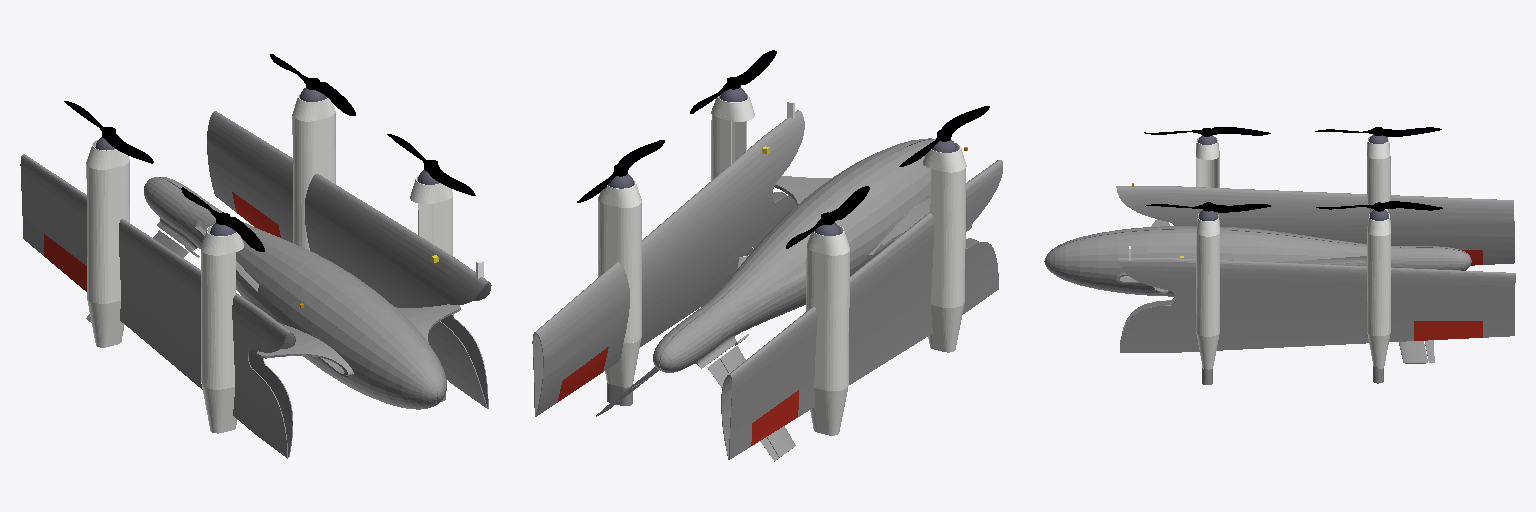
--- What the picture shows (computed from the rendered views, not written in the file) ---
The picture shows the robot from 3 angles, left to right: view 1: azimuth 30°, elevation 25°; view 2: azimuth 150°, elevation 25°; view 3: azimuth 270°, elevation 25°; orthographic projection.
Robot: uav — 13 links, 12 joints (8 revolute, 4 continuous); root link base_link; default pose: every joint at zero.
Links seen in each view (by area): view 1: new_link.000, new_link.000.001, base_link, right_wing_flap, left_wing_flap, Body1.051_link, Body1.051_link.002, Body1.051_link.003, Body1.051_link.001; view 2: new_link.000, new_link.000.001, base_link, right_wing_flap, left_wing_flap, Body1.051_link.001, Body1.051_link.003, Body1.051_link, Body1.051_link.002; view 3: new_link.000.001, new_link.000, base_link, left_wing_flap, Body1.051_link.003, Body1.051_link.002, Body1.051_link.001, Body1.051_link.
Link boxes in pixels (x1,y1,x2,y2): new_link.000: (20,137,295,458); new_link.000.001: (207,88,491,408); base_link: (90,177,460,409); right_wing_flap: (44,234,86,291); left_wing_flap: (232,192,483,278); Body1.051_link: (181,187,264,251); Body1.051_link.002: (270,54,355,115); Body1.051_link.003: (64,101,153,163); Body1.051_link.001: (387,134,475,195); new_link.000: (721,140,1002,459); new_link.000.001: (532,87,804,416); base_link: (598,138,971,457); right_wing_flap: (751,390,798,445); left_wing_flap: (557,101,794,402); Body1.051_link.001: (690,50,776,113); Body1.051_link.003: (786,186,869,248); Body1.051_link: (899,106,989,166); Body1.051_link.002: (577,140,664,202); new_link.000.001: (1118,210,1515,384); new_link.000: (1116,134,1514,264); base_link: (1044,219,1471,363); left_wing_flap: (1129,246,1482,340); Body1.051_link.003: (1315,127,1441,136); Body1.051_link.002: (1316,201,1442,211); Body1.051_link.001: (1145,202,1270,212); Body1.051_link: (1144,127,1270,136).
Size in the robot's own frame: 0.6 by 1.32 by 0.5472 metres.
Meshes: 30 distinct files referenced, 41 mesh visuals loaded (26 binary STL); not drawn: 4 (reference not matched to a file when rendering).

robot.urdf — uav:
<robot name="uav" version="1.0">
  <joint name="left_elavator" type="revolute">
    <limit lower="-0.26180" upper="0.26180" effort="0.18000" velocity="10.50000"/>
    <origin rpy="2.37638 -0.00000 1.57080" xyz="0.08435 0.68209 -0.08224"/>
    <parent link="base_link"/>
    <child link="Body5_link"/>
    <axis xyz="0.00000 0.00000 1.00000"/>
  </joint>
  <joint name="left_flap" type="revolute">
    <limit lower="-0.26180" upper="0.26180" effort="0.18000" velocity="10.50000"/>
    <origin rpy="0.00000 0.00000 -3.14159" xyz="-0.01213 -0.08407 -0.81608"/>
    <parent link="new_link.000.001"/>
    <child link="left_wing_flap"/>
    <axis xyz="0.00000 0.00000 1.00000"/>
  </joint>
  <joint name="left_wing_first_motor" type="continuous">
    <limit lower="0" upper="0" effort="0.87000" velocity="0.00000"/>
    <origin rpy="2.35619 -1.57080 2.35619" xyz="0.01156 0.27348 -0.12973"/>
    <parent link="new_link.000.001"/>
    <child link="Body1.051_link.001"/>
    <axis xyz="0.00000 0.00000 1.00000"/>
  </joint>
  <joint name="left_wing_first_transwing" type="revolute">
    <limit lower="-1.57080" upper="0.00000" effort="0.75000" velocity="314.00000"/>
    <origin rpy="0.00000 0.00000 0.00000" xyz="0.22885 -0.00979 0.00083"/>
    <parent link="base_link"/>
    <child link="new_link.000.001.002"/>
    <axis xyz="0.00000 0.00000 1.00000"/>
  </joint>
  <joint name="left_wing_second_motor" type="continuous">
    <limit lower="0" upper="0" effort="0.87000" velocity="576.00000"/>
    <origin rpy="2.35619 -1.57080 2.35619" xyz="0.00373 0.27348 -0.60796"/>
    <parent link="new_link.000.001"/>
    <child link="Body1.051_link.002"/>
    <axis xyz="0.00000 0.00000 1.00000"/>
  </joint>
  <joint name="left_wing_second_transwing" type="revolute">
    <limit lower="-1.57080" upper="0.00000" effort="0.75000" velocity="314.00000"/>
    <origin rpy="1.57080 0.00000 0.00000" xyz="0.01000 0.00000 0.00000"/>
    <parent link="new_link.000.001.002"/>
    <child link="new_link.000.001"/>
    <axis xyz="0.00000 0.00000 1.00000"/>
  </joint>
  <joint name="right_elavator" type="revolute">
    <limit lower="-0.26180" upper="0.26180" effort="0.18000" velocity="10.50000"/>
    <origin rpy="-2.35619 -0.00000 1.57080" xyz="-0.09293 0.69201 -0.08899"/>
    <parent link="base_link"/>
    <child link="Body3.003_link"/>
    <axis xyz="0.00000 0.00000 1.00000"/>
  </joint>
  <joint name="right_flap" type="revolute">
    <limit lower="-0.26180" upper="0.26180" effort="0.18000" velocity="10.50000"/>
    <origin rpy="0.00000 0.00000 -3.14159" xyz="-0.00099 -0.08750 -0.82097"/>
    <parent link="new_link.000"/>
    <child link="right_wing_flap"/>
    <axis xyz="0.00000 0.00000 1.00000"/>
  </joint>
  <joint name="right_wing_first_motor" type="continuous">
    <limit lower="0" upper="0" effort="0.87000" velocity="576.00000"/>
    <origin rpy="2.35619 -1.57080 2.35619" xyz="-0.01773 0.27006 -0.12950"/>
    <parent link="new_link.000"/>
    <child link="Body1.051_link"/>
    <axis xyz="0.00000 0.00000 1.00000"/>
  </joint>
  <joint name="right_wing_first_transwing" type="revolute">
    <limit lower="0.00000" upper="1.57080" effort="0.75000" velocity="314.00000"/>
    <origin rpy="0.00000 0.00000 0.00000" xyz="-0.22514 -0.01467 0.00426"/>
    <parent link="base_link"/>
    <child link="new_link"/>
    <axis xyz="0.00000 0.00000 1.00000"/>
  </joint>
  <joint name="right_wing_second_motor" type="continuous">
    <limit lower="0" upper="0" effort="0.87000" velocity="576.00000"/>
    <origin rpy="2.35619 -1.57080 2.35619" xyz="-0.01773 0.27006 -0.61284"/>
    <parent link="new_link.000"/>
    <child link="Body1.051_link.003"/>
    <axis xyz="0.00000 0.00000 1.00000"/>
  </joint>
  <joint name="right_wing_second_transwing" type="revolute">
    <limit lower="0.00000" upper="1.57080" effort="0.75000" velocity="314.00000"/>
    <origin rpy="1.57080 0.00000 0.00000" xyz="-0.01000 0.00000 0.00000"/>
    <parent link="new_link"/>
    <child link="new_link.000"/>
    <axis xyz="0.00000 0.00000 1.00000"/>
  </joint>
  <link name="Body1.051_link">
    <collision name="Body1.051_collision">
      <origin rpy="1.57750 0.00672 -0.00304" xyz="0.00001 -0.00001 0.00130"/>
      <geometry>
        <box size="0.34166 0.02595 0.03361"/>
      </geometry>
    </collision>
    <inertial>
      <inertia ixx="0.00009" ixy="0.00000" ixz="0.00000" iyy="0.00000" iyz="-0.00000" izz="0.00009"/>
      <origin rpy="0.00000 0.00000 0.00000" xyz="0.00006 -0.00006 0.00942"/>
      <mass value="0.01400"/>
    </inertial>
    <visual name="Body1.051">
      <origin rpy="1.57750 0.00672 -0.00304" xyz="-0.00000 -0.00000 0.00000"/>
      <material name="Oak"/>
      <geometry>
        <mesh filename="../meshes/stl/Body1.030.stl" scale="0.01000 0.01000 0.01000"/>
      </geometry>
    </visual>
  </link>
  <link name="Body1.051_link.001">
    <collision name="Body1.050_collision">
      <origin rpy="-1.57424 -0.00349 -0.01328" xyz="0.00029 -0.00010 0.00128"/>
      <geometry>
        <box size="0.35928 0.02442 0.03534"/>
      </geometry>
    </collision>
    <inertial>
      <inertia ixx="0.00009" ixy="0.00000" ixz="-0.00000" iyy="0.00000" iyz="0.00000" izz="0.00009"/>
      <origin rpy="0.00000 0.00000 0.00000" xyz="0.00206 -0.00072 0.01333"/>
      <mass value="0.01400"/>
    </inertial>
    <visual name="Body1.050">
      <origin rpy="-1.57424 -0.00349 -0.01328" xyz="0.00209 -0.00069 0.01859"/>
      <material name="Oak"/>
      <geometry>
        <mesh filename="../meshes/stl/Body1.030.stl" scale="0.01000 0.01000 0.01000"/>
      </geometry>
    </visual>
  </link>
  <link name="Body1.051_link.002">
    <collision name="Body1.047_collision">
      <origin rpy="1.56735 0.00349 -3.12831" xyz="0.00005 0.00001 0.00125"/>
      <geometry>
        <box size="0.31820 0.01863 0.03130"/>
      </geometry>
    </collision>
    <inertial>
      <inertia ixx="0.00009" ixy="0.00000" ixz="-0.00000" iyy="0.00000" iyz="0.00000" izz="0.00009"/>
      <origin rpy="0.00000 0.00000 0.00000" xyz="0.00035 0.00004 0.00905"/>
      <mass value="0.01400"/>
    </inertial>
    <visual name="Body1.047">
      <origin rpy="1.56735 0.00349 -3.12831" xyz="0.00038 0.00007 -0.00036"/>
      <material name="Oak"/>
      <geometry>
        <mesh filename="../meshes/stl/Body1.030.stl" scale="0.01000 0.01000 0.01000"/>
      </geometry>
    </visual>
  </link>
  <link name="Body1.051_link.003">
    <collision name="Body1.052_collision">
      <origin rpy="-1.56410 -0.00672 -3.13855" xyz="0.00046 0.00015 0.00124"/>
      <geometry>
        <box size="0.31228 0.02690 0.03072"/>
      </geometry>
    </collision>
    <inertial>
      <inertia ixx="0.00009" ixy="0.00000" ixz="0.00000" iyy="0.00000" iyz="-0.00000" izz="0.00009"/>
      <origin rpy="0.00000 0.00000 0.00000" xyz="0.00341 0.00109 0.01254"/>
      <mass value="0.01400"/>
    </inertial>
    <visual name="Body1.052">
      <origin rpy="-1.56410 -0.00672 -3.13855" xyz="0.00335 0.00116 0.01833"/>
      <material name="Oak"/>
      <geometry>
        <mesh filename="../meshes/stl/Body1.030.stl" scale="0.01000 0.01000 0.01000"/>
      </geometry>
    </visual>
  </link>
  <link name="Body3.003_link">
    <collision name="Body2.005_collision">
      <origin rpy="-0.00000 -0.00000 -0.00000" xyz="0.03250 0.00124 0.11900"/>
      <geometry>
        <box size="0.03584 0.00597 0.11108"/>
      </geometry>
    </collision>
    <collision name="Body3.003_collision">
      <origin rpy="-0.00000 -0.00000 -0.00000" xyz="0.02236 0.00047 -0.00125"/>
      <geometry>
        <box size="0.05422 0.00915 0.11864"/>
      </geometry>
    </collision>
    <inertial>
      <inertia ixx="0.00064" ixy="0.00000" ixz="-0.00032" iyy="0.00011" iyz="0.00000" izz="0.00064"/>
      <origin rpy="0.00000 0.00000 0.00000" xyz="0.03283 0.00233 0.04624"/>
      <mass value="0.04800"/>
    </inertial>
    <visual name="Body2.005">
      <origin rpy="-0.00000 -0.00000 -0.00000" xyz="-0.09273 -0.00434 -0.06766"/>
      <material name="Steel - Satin"/>
      <geometry>
        <mesh filename="../meshes/stl/Body2.005.stl" scale="0.01000 0.01000 0.01000"/>
      </geometry>
    </visual>
    <visual name="Body3.003">
      <origin rpy="-0.00000 -0.00000 -0.00000" xyz="-0.09273 -0.00434 -0.06766"/>
      <material name="Steel - Satin"/>
      <geometry>
        <mesh filename="../meshes/stl/Body3.003.stl" scale="0.01000 0.01000 0.01000"/>
      </geometry>
    </visual>
  </link>
  <link name="Body5_link">
    <collision name="Body3_collision">
      <origin rpy="3.12141 0.00000 -0.00000" xyz="0.05264 0.00185 0.13020"/>
      <geometry>
        <box size="0.03520 0.00586 0.10908"/>
      </geometry>
    </collision>
    <collision name="Body5_collision">
      <origin rpy="3.12141 0.00000 -0.00000" xyz="0.03527 -0.00019 0.00092"/>
      <geometry>
        <box size="0.06745 0.01139 0.14761"/>
      </geometry>
    </collision>
    <inertial>
      <inertia ixx="0.00058" ixy="0.00003" ixz="-0.00029" iyy="0.00012" iyz="-0.00004" izz="0.00059"/>
      <origin rpy="0.00000 0.00000 0.00000" xyz="0.04275 0.00013 0.05709"/>
      <mass value="0.04800"/>
    </inertial>
    <visual name="Body3">
      <origin rpy="3.12141 0.00000 -0.00000" xyz="-0.08281 0.00449 -0.05692"/>
      <material name="Steel - Satin"/>
      <geometry>
        <mesh filename="../meshes/stl/Body3.stl" scale="0.01000 0.01000 0.01000"/>
      </geometry>
    </visual>
    <visual name="Body5">
      <origin rpy="3.12141 0.00000 -0.00000" xyz="-0.08281 0.00449 -0.05692"/>
      <material name="Steel - Satin"/>
      <geometry>
        <mesh filename="../meshes/stl/Body5.stl" scale="0.01000 0.01000 0.01000"/>
      </geometry>
    </visual>
  </link>
  <link name="base_link">
    <collision name="main_body_collision">
      <origin rpy="1.57080 0.00000 0.00000" xyz="0.00000 0.25720 -0.00002"/>
      <geometry>
        <box size="0.30537 0.24244 1.19969"/>
      </geometry>
    </collision>
    <inertial>
      <inertia ixx="0.74378" ixy="0.00000" ixz="-0.00000" iyy="0.03225" iyz="0.04210" izz="0.74664"/>
      <origin rpy="0.00000 0.00000 0.00000" xyz="-0.00000 0.21700 -0.00610"/>
      <mass value="9.59350"/>
    </inertial>
    <visual name="Body6">
      <origin rpy="-2.35619 -0.00000 1.57080" xyz="-0.04815 0.59928 -0.03807"/>
      <material name="Steel - Satin"/>
      <geometry>
        <mesh filename="../meshes/stl/Body6.stl" scale="0.01000 0.01000 0.01000"/>
      </geometry>
    </visual>
    <visual name="Body7">
      <origin rpy="-2.35619 -0.00000 1.57080" xyz="-0.04815 0.59928 -0.03807"/>
      <material name="Steel - Satin"/>
      <geometry>
        <mesh filename="../meshes/stl/Body7.stl" scale="0.01000 0.01000 0.01000"/>
      </geometry>
    </visual>
    <visual name="Body8">
      <origin rpy="-0.78540 -0.00000 1.57080" xyz="0.04815 0.59928 -0.03807"/>
      <material name="Steel - Satin"/>
      <geometry>
        <mesh filename="../meshes/stl/Body8.stl" scale="0.01000 0.01000 0.01000"/>
      </geometry>
    </visual>
    <visual name="Body9">
      <origin rpy="-0.78540 -0.00000 1.57080" xyz="0.04815 0.59928 -0.03807"/>
      <material name="Steel - Satin"/>
      <geometry>
        <mesh filename="../meshes/stl/Body9.stl" scale="0.01000 0.01000 0.01000"/>
      </geometry>
    </visual>
    <visual name="main_body">
      <origin rpy="1.57080 0.00000 0.00000" xyz="0.00000 -0.34282 0.00000"/>
      <material name="Steel - Satin"/>
      <geometry>
        <mesh filename="../meshes/stl/Body1.008.stl" scale="0.01000 0.01000 0.01000"/>
      </geometry>
    </visual>
    <visual name="rib1 (1) (1)">
      <origin rpy="-0.78540 -0.00000 1.57080" xyz="0.04815 0.59928 -0.03807"/>
      <material name="Steel - Satin"/>
      <geometry>
        <box size="0.04690 0.00903 0.00440"/>
      </geometry>
    </visual>
    <visual name="rib1 (1) (1).001">
      <origin rpy="-2.35619 -0.00000 1.57080" xyz="-0.04815 0.59928 -0.03807"/>
      <material name="Steel - Satin"/>
      <geometry>
        <box size="0.04690 0.00903 0.00440"/>
      </geometry>
    </visual>
    <visual name="rib1 (2)">
      <origin rpy="-0.78540 -0.00000 1.57080" xyz="0.04815 0.59928 -0.03807"/>
      <material name="Steel - Satin"/>
      <geometry>
        <box size="0.03224 0.00650 0.00500"/>
      </geometry>
    </visual>
    <visual name="rib1 (2).001">
      <origin rpy="-2.35619 -0.00000 1.57080" xyz="-0.04815 0.59928 -0.03807"/>
      <material name="Steel - Satin"/>
      <geometry>
        <box size="0.03224 0.00650 0.00500"/>
      </geometry>
    </visual>
    <visual name="rib1.001">
      <origin rpy="-2.35619 -0.00000 1.57080" xyz="-0.04815 0.59928 -0.03807"/>
      <material name="Steel - Satin"/>
      <geometry>
        <box size="0.01721 0.00372 0.00500"/>
      </geometry>
    </visual>
  </link>
  <link name="left_wing_flap">
    <collision name="aileron.002_collision">
      <origin rpy="2.88804 -1.55706 -2.88457" xyz="0.00069 0.01837 0.01672"/>
      <geometry>
        <box size="0.20342 0.06614 0.01918"/>
      </geometry>
    </collision>
    <inertial>
      <inertia ixx="0.00010" ixy="0.00000" ixz="0.00000" iyy="0.00001" iyz="-0.00000" izz="0.00009"/>
      <origin rpy="0.00000 0.00000 0.00000" xyz="0.00027 0.02213 0.01835"/>
      <mass value="0.04000"/>
    </inertial>
    <visual name="Aileron1">
      <origin rpy="2.88806 -1.55706 -2.88459" xyz="-0.01347 -0.20837 0.90912"/>
      <material name="Generic"/>
      <geometry>
        <box size="0.00700 0.06017 0.01504"/>
      </geometry>
    </visual>
    <visual name="Aileron2">
      <origin rpy="2.88806 -1.55706 -2.88459" xyz="-0.01347 -0.20837 0.90912"/>
      <material name="Generic"/>
      <geometry>
        <box size="0.00700 0.05517 0.01391"/>
      </geometry>
    </visual>
    <visual name="Aileron3">
      <origin rpy="2.88806 -1.55706 -2.88459" xyz="-0.01347 -0.20837 0.90912"/>
      <material name="Generic"/>
      <geometry>
        <box size="0.00700 0.05085 0.01292"/>
      </geometry>
    </visual>
    <visual name="aileron.002">
      <origin rpy="2.88805 -1.55706 -2.88458" xyz="-0.01397 -0.20896 0.90661"/>
      <material name="Powder Coat - Rough (Red)"/>
      <geometry>
        <mesh filename="../meshes/stl/aileron.001.stl" scale="0.01000 0.01000 0.01000"/>
      </geometry>
    </visual>
  </link>
  <link name="new_link">
    <collision name="Cube.001_collision">
      <origin rpy="0.00000 0.00000 0.00000" xyz="0.04055 -0.07987 0.14620"/>
      <geometry>
        <box size="0.00694 0.00694 0.00694"/>
      </geometry>
    </collision>
    <visual name="Cube.001">
      <origin rpy="0.00000 0.00000 0.00000" xyz="0.04055 -0.07987 0.14620"/>
      <geometry>
        <box size="0.00669 0.00669 0.00669"/>
      </geometry>
    </visual>
  </link>
  <link name="new_link.000">
    <collision name="Body3.002_collision">
      <origin rpy="-1.13933 -1.56342 -1.99556" xyz="0.00725 -0.02656 -0.43336"/>
      <geometry>
        <box size="1.11702 0.43843 0.05438"/>
      </geometry>
    </collision>
    <inertial>
      <inertia ixx="0.11982" ixy="0.00011" ixz="0.00037" iyy="0.01284" iyz="0.00167" izz="0.10779"/>
      <origin rpy="0.00000 0.00000 0.00000" xyz="-0.00531 -0.00816 -0.37298"/>
      <mass value="2.97000"/>
    </inertial>
    <visual name="Body1.014">
      <origin rpy="-0.43143 1.56342 1.14607" xyz="-0.03073 -0.02803 -0.13154"/>
      <material name="Opaque(246,246,243)"/>
      <geometry>
        <mesh filename="../meshes/stl/Body1.009.stl" scale="0.01000 0.01000 0.01000"/>
      </geometry>
    </visual>
    <visual name="Body1.015">
      <origin rpy="-2.71018 -1.56342 -1.99551" xyz="-0.03026 -0.09803 -0.13201"/>
      <material name="Opaque(246,246,243)"/>
      <geometry>
        <mesh filename="../meshes/stl/Body1.010.stl" scale="0.01000 0.01000 0.01000"/>
      </geometry>
    </visual>
    <visual name="Body1.016">
      <origin rpy="-0.43143 1.56342 1.14607" xyz="-0.02957 -0.02491 -0.61153"/>
      <material name="Opaque(246,246,243)"/>
      <geometry>
        <mesh filename="../meshes/stl/Body1.009.stl" scale="0.01000 0.01000 0.01000"/>
      </geometry>
    </visual>
    <visual name="Body1.017">
      <origin rpy="-2.71018 -1.56342 -1.99551" xyz="-0.02910 -0.09490 -0.61200"/>
      <material name="Opaque(246,246,243)"/>
      <geometry>
        <mesh filename="../meshes/stl/Body1.010.stl" scale="0.01000 0.01000 0.01000"/>
      </geometry>
    </visual>
    <visual name="Body1.018">
      <origin rpy="-2.00217 1.56342 1.14612" xyz="0.01941 0.16719 -0.11308"/>
      <material name="Opaque(246,246,243)"/>
      <geometry>
        <mesh filename="../meshes/stl/Body1.011.stl" scale="0.01000 0.01000 0.01000"/>
      </geometry>
    </visual>
    <visual name="Body1.019">
      <origin rpy="-2.71018 -1.56342 -1.99551" xyz="-0.00326 -0.09785 -0.13193"/>
      <material name="Opaque(246,246,243)"/>
      <geometry>
        <mesh filename="../meshes/stl/Body1.012.stl" scale="0.01000 0.01000 0.01000"/>
      </geometry>
    </visual>
    <visual name="Body1.020">
      <origin rpy="2.00223 -1.56342 -1.99553" xyz="0.02215 -0.04945 -0.62854"/>
      <material name="Opaque(246,246,243)"/>
      <geometry>
        <mesh filename="../meshes/stl/Body1.013.stl" scale="0.01000 0.01000 0.01000"/>
      </geometry>
    </visual>
    <visual name="Body1.021">
      <origin rpy="-2.71018 -1.56342 -1.99551" xyz="-0.00210 -0.09472 -0.61192"/>
      <material name="Opaque(246,246,243)"/>
      <geometry>
        <mesh filename="../meshes/stl/Body1.012.stl" scale="0.01000 0.01000 0.01000"/>
      </geometry>
    </visual>
    <visual name="Body1.022">
      <origin rpy="-0.43143 1.56342 1.14607" xyz="-0.03284 0.21195 -0.12994"/>
      <material name="Opaque(246,246,243)"/>
      <geometry>
        <mesh filename="../meshes/stl/Body1.014.stl" scale="0.01000 0.01000 0.01000"/>
      </geometry>
    </visual>
    <visual name="Body1.023">
      <origin rpy="0.43141 -1.56342 -1.99551" xyz="-0.00534 0.21214 -0.12980"/>
      <material name="Opaque(246,246,243)"/>
      <geometry>
        <mesh filename="../meshes/stl/Body1.014.stl" scale="0.01000 0.01000 0.01000"/>
      </geometry>
    </visual>
    <visual name="Body1.024">
      <origin rpy="-0.43143 1.56342 1.14607" xyz="-0.03118 0.21508 -0.60992"/>
      <material name="Opaque(246,246,243)"/>
      <geometry>
        <mesh filename="../meshes/stl/Body1.014.stl" scale="0.01000 0.01000 0.01000"/>
      </geometry>
    </visual>
    <visual name="Body1.025">
      <origin rpy="0.43141 -1.56342 -1.99551" xyz="-0.00418 0.21526 -0.60984"/>
      <material name="Opaque(246,246,243)"/>
      <geometry>
        <mesh filename="../meshes/stl/Body1.014.stl" scale="0.01000 0.01000 0.01000"/>
      </geometry>
    </visual>
    <visual name="Body1.027">
      <origin rpy="-1.13937 -1.56342 -1.99552" xyz="-0.00540 0.11984 0.08953"/>
      <material name="Steel - Satin"/>
      <geometry>
        <mesh filename="../meshes/stl/Body1.016.stl" scale="0.01000 0.01000 0.01000"/>
      </geometry>
    </visual>
    <visual name="Body1.054">
      <origin rpy="0.00670 -0.00308 0.00670" xyz="-0.01754 0.24206 -0.12969"/>
      <material name="Opaque(104,104,120)"/>
      <geometry>
        <sphere radius="0.02780"/>
      </geometry>
    </visual>
    <visual name="Body1.056">
      <origin rpy="0.00670 -0.00308 0.00670" xyz="-0.01638 0.24518 -0.60968"/>
      <material name="Opaque(104,104,120)"/>
      <geometry>
        <sphere radius="0.02780"/>
      </geometry>
    </visual>
    <visual name="Body2.004">
      <origin rpy="-1.13937 -1.56342 -1.99552" xyz="-0.00540 0.11984 0.08953"/>
      <material name="Steel - Satin"/>
      <geometry>
        <mesh filename="../meshes/stl/Body2.004.stl" scale="0.01000 0.01000 0.01000"/>
      </geometry>
    </visual>
    <visual name="Body3.002">
      <origin rpy="-1.13937 -1.56342 -1.99552" xyz="-0.00540 0.11984 0.08953"/>
      <material name="Steel - Satin"/>
      <geometry>
        <mesh filename="../meshes/stl/Body3.002.stl" scale="0.01000 0.01000 0.01000"/>
      </geometry>
    </visual>
  </link>
  <link name="new_link.000.001">
    <collision name="Body1.029_collision">
      <origin rpy="2.88804 -1.55706 0.25702" xyz="-0.01463 -0.02695 -0.43070"/>
      <geometry>
        <box size="1.11709 0.44071 0.05657"/>
      </geometry>
    </collision>
    <inertial>
      <inertia ixx="0.11853" ixy="0.00181" ixz="0.00096" iyy="0.01167" iyz="0.00608" izz="0.10759"/>
      <origin rpy="0.00000 0.00000 0.00000" xyz="-0.00473 -0.01330 -0.38908"/>
      <mass value="2.74700"/>
    </inertial>
    <visual name="Body1.028">
      <origin rpy="-1.13934 -1.56342 -1.99556" xyz="0.02396 0.12327 0.09799"/>
      <material name="Steel - Satin.002"/>
      <geometry>
        <mesh filename="../meshes/stl/Body1.032.stl" scale="0.01000 0.01000 0.01000"/>
      </geometry>
    </visual>
    <visual name="Body1.029">
      <origin rpy="2.88805 -1.55706 0.25701" xyz="0.00183 0.12489 0.09053"/>
      <material name="Steel - Satin"/>
      <geometry>
        <mesh filename="../meshes/stl/Body1.018.stl" scale="0.01000 0.01000 0.01000"/>
      </geometry>
    </visual>
    <visual name="Body1.030">
      <origin rpy="-1.31724 1.55706 -2.88457" xyz="0.02593 -0.02555 -0.12678"/>
      <material name="Opaque(246,246,243)"/>
      <geometry>
        <mesh filename="../meshes/stl/Body1.019.stl" scale="0.01000 0.01000 0.01000"/>
      </geometry>
    </visual>
    <visual name="Body1.031">
      <origin rpy="-1.31724 1.55706 -2.88457" xyz="0.01986 -0.02732 -0.60674"/>
      <material name="Opaque(246,246,243)"/>
      <geometry>
        <mesh filename="../meshes/stl/Body1.019.stl" scale="0.01000 0.01000 0.01000"/>
      </geometry>
    </visual>
    <visual name="Body1.032">
      <origin rpy="-1.82434 -1.55706 0.25701" xyz="0.02617 -0.09555 -0.12654"/>
      <material name="Opaque(246,246,243)"/>
      <geometry>
        <mesh filename="../meshes/stl/Body1.020.stl" scale="0.01000 0.01000 0.01000"/>
      </geometry>
    </visual>
    <visual name="Body1.033">
      <origin rpy="-1.82434 -1.55706 0.25701" xyz="0.02010 -0.09732 -0.60650"/>
      <material name="Opaque(246,246,243)"/>
      <geometry>
        <mesh filename="../meshes/stl/Body1.020.stl" scale="0.01000 0.01000 0.01000"/>
      </geometry>
    </visual>
    <visual name="Body1.034">
      <origin rpy="0.25353 1.55706 -2.88459" xyz="-0.02602 0.16933 -0.10977"/>
      <material name="Opaque(246,246,243)"/>
      <geometry>
        <mesh filename="../meshes/stl/Body1.021.stl" scale="0.01000 0.01000 0.01000"/>
      </geometry>
    </visual>
    <visual name="Body1.035">
      <origin rpy="-1.82434 -1.55706 0.25701" xyz="-0.00082 -0.09564 -0.12618"/>
      <material name="Opaque(246,246,243)"/>
      <geometry>
        <mesh filename="../meshes/stl/Body1.022.stl" scale="0.01000 0.01000 0.01000"/>
      </geometry>
    </visual>
    <visual name="Body1.036">
      <origin rpy="-1.82434 -1.55706 0.25701" xyz="-0.00690 -0.09742 -0.60614"/>
      <material name="Opaque(246,246,243)"/>
      <geometry>
        <mesh filename="../meshes/stl/Body1.022.stl" scale="0.01000 0.01000 0.01000"/>
      </geometry>
    </visual>
    <visual name="Body1.037">
      <origin rpy="-0.25355 -1.55706 0.25702" xyz="-0.03178 -0.05256 -0.62297"/>
      <material name="Opaque(246,246,243)"/>
      <geometry>
        <mesh filename="../meshes/stl/Body1.023.stl" scale="0.01000 0.01000 0.01000"/>
      </geometry>
    </visual>
    <visual name="Body1.038">
      <origin rpy="-1.31724 1.55706 -2.88457" xyz="0.02559 0.21445 -0.12762"/>
      <material name="Opaque(246,246,243)"/>
      <geometry>
        <mesh filename="../meshes/stl/Body1.024.stl" scale="0.01000 0.01000 0.01000"/>
      </geometry>
    </visual>
    <visual name="Body1.039">
      <origin rpy="1.31725 -1.55706 0.25701" xyz="-0.00191 0.21435 -0.12720"/>
      <material name="Opaque(246,246,243)"/>
      <geometry>
        <mesh filename="../meshes/stl/Body1.024.stl" scale="0.01000 0.01000 0.01000"/>
      </geometry>
    </visual>
    <visual name="Body1.040">
      <origin rpy="-1.31724 1.55706 -2.88457" xyz="0.01902 0.21267 -0.60757"/>
      <material name="Opaque(246,246,243)"/>
      <geometry>
        <mesh filename="../meshes/stl/Body1.024.stl" scale="0.01000 0.01000 0.01000"/>
      </geometry>
    </visual>
    <visual name="Body1.041">
      <origin rpy="1.31725 -1.55706 0.25701" xyz="-0.00798 0.21258 -0.60721"/>
      <material name="Opaque(246,246,243)"/>
      <geometry>
        <mesh filename="../meshes/stl/Body1.024.stl" scale="0.01000 0.01000 0.01000"/>
      </geometry>
    </visual>
    <visual name="Body1.046">
      <origin rpy="-3.13815 -0.01330 -3.13815" xyz="0.00390 0.24762 -0.60749"/>
      <material name="Opaque(104,104,120)"/>
      <geometry>
        <sphere radius="0.02780"/>
      </geometry>
    </visual>
    <visual name="Body1.049">
      <origin rpy="-3.13815 -0.01330 -3.13815" xyz="0.01097 0.24940 -0.12755"/>
      <material name="Opaque(104,104,120)"/>
      <geometry>
        <sphere radius="0.02780"/>
      </geometry>
    </visual>
    <visual name="Body2.007">
      <origin rpy="-1.13934 -1.56342 -1.99556" xyz="0.01663 0.12327 0.09799"/>
      <material name="Steel - Satin.002"/>
      <geometry>
        <mesh filename="../meshes/stl/Body2.007.stl" scale="0.01000 0.01000 0.01000"/>
      </geometry>
    </visual>
  </link>
  <link name="new_link.000.001.002">
    <collision name="Cube_collision">
      <origin rpy="0.00000 0.00000 0.00000" xyz="-0.01336 0.05210 0.10848"/>
      <geometry>
        <box size="0.01294 0.01294 0.01294"/>
      </geometry>
    </collision>
    <visual name="Cube">
      <origin rpy="0.00000 0.00000 0.00000" xyz="-0.01336 0.05210 0.10848"/>
      <geometry>
        <box size="0.01155 0.01155 0.01155"/>
      </geometry>
    </visual>
  </link>
  <link name="right_wing_flap">
    <collision name="aileron.001_collision">
      <origin rpy="-1.13935 -1.56342 1.14605" xyz="-0.00124 0.00336 0.00314"/>
      <geometry>
        <box size="0.23324 0.08018 0.02200"/>
      </geometry>
    </collision>
    <inertial>
      <inertia ixx="0.00010" ixy="-0.00000" ixz="-0.00000" iyy="0.00001" iyz="-0.00000" izz="0.00009"/>
      <origin rpy="0.00000 0.00000 0.00000" xyz="-0.00306 0.01463 0.01983"/>
      <mass value="0.04000"/>
    </inertial>
    <visual name="aileron.001">
      <origin rpy="-1.13939 -1.56342 1.14609" xyz="0.00440 -0.20734 0.91050"/>
      <material name="Powder Coat - Rough (Red)"/>
      <geometry>
        <mesh filename="../meshes/stl/aileron.stl" scale="0.01000 0.01000 0.01000"/>
      </geometry>
    </visual>
  </link>
  <material name="Generic">
    <color rgba="1.00000 1.00000 1.00000 1.00000"/>
  </material>
  <material name="Oak">
    <color rgba="0.00000 0.00000 0.00000 1.00000"/>
  </material>
  <material name="Opaque(104,104,120)">
    <color rgba="0.40784 0.40784 0.47059 1.00000"/>
  </material>
  <material name="Opaque(246,246,243)">
    <color rgba="0.96471 0.96471 0.95294 1.00000"/>
  </material>
  <material name="Powder Coat - Rough (Red)">
    <color rgba="0.76863 0.20784 0.15294 1.00000"/>
  </material>
  <material name="Steel - Satin">
    <color rgba="0.62745 0.62745 0.62745 1.00000"/>
  </material>
  <material name="Steel - Satin.002">
    <color rgba="0.62745 0.62745 0.62745 1.00000"/>
  </material>
</robot>
